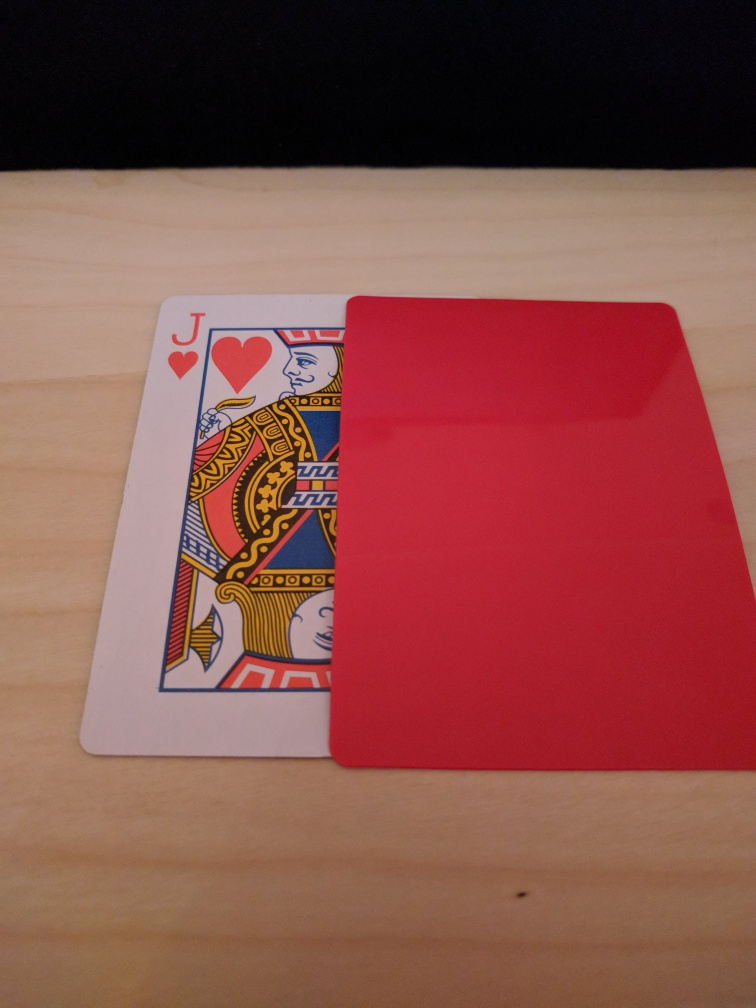jack: (78, 291, 350, 757)
